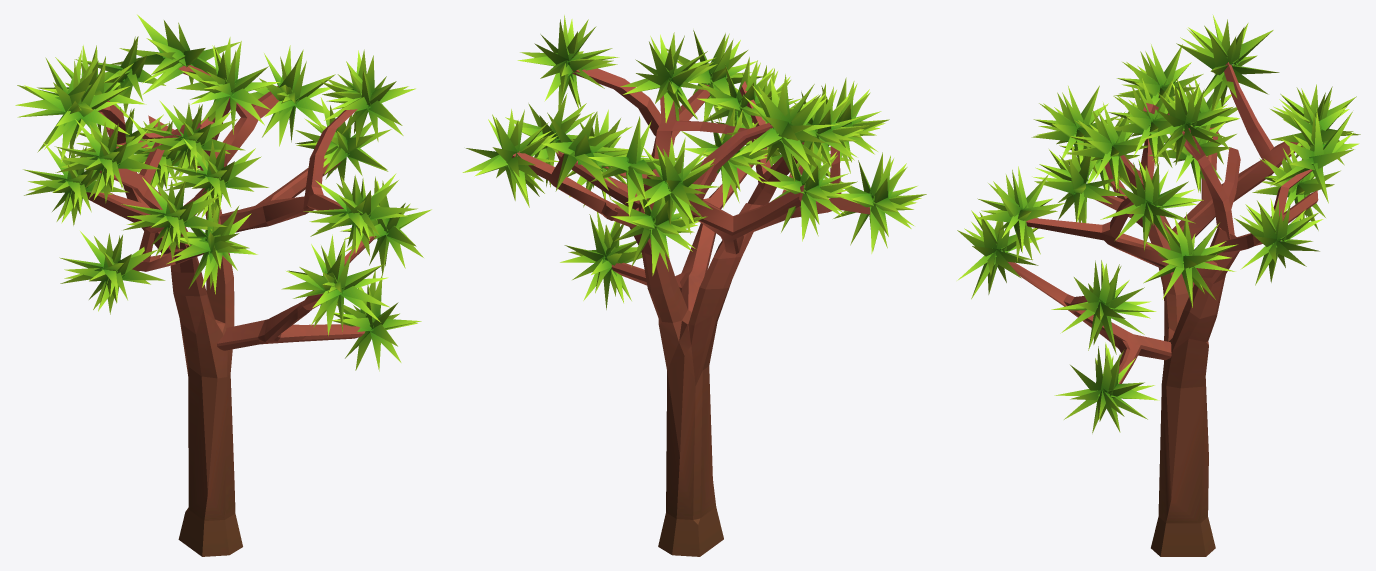
The picture shows the model from 3 angles, left to right: view 1: azimuth 30°, elevation 25°; view 2: azimuth 150°, elevation 25°; view 3: azimuth 270°, elevation 25°; orthographic projection. The views are drawn at different scales.
Parts seen in each view (by area): view 1: JoshuaTree3; view 2: JoshuaTree3; view 3: JoshuaTree3.
Boxes of the visible parts, <box> form: JoshuaTree3: <box>15,14,431,556</box>; JoshuaTree3: <box>462,15,926,556</box>; JoshuaTree3: <box>957,15,1360,556</box>.
Size of the model in its own units: 388 by 500 by 387.
1 material, 1 textured.
